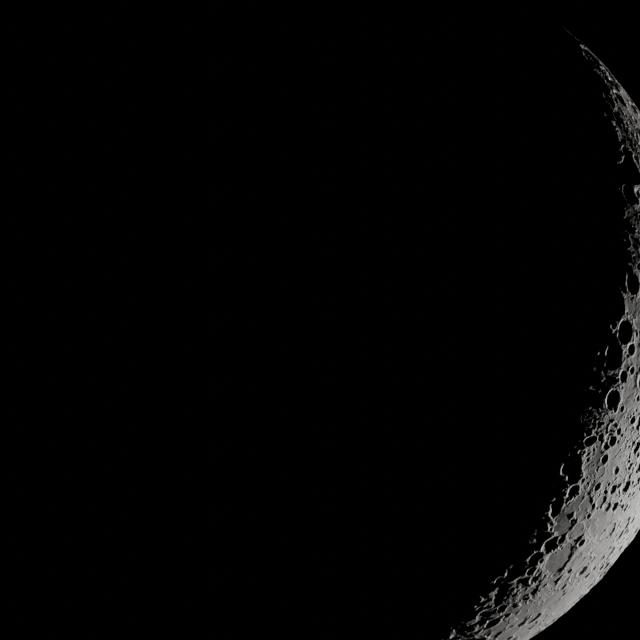crater: (614, 316, 634, 346), (605, 383, 623, 415), (565, 479, 581, 503), (625, 274, 640, 297), (597, 453, 613, 472), (609, 433, 624, 451), (580, 434, 601, 446), (592, 481, 604, 496)
